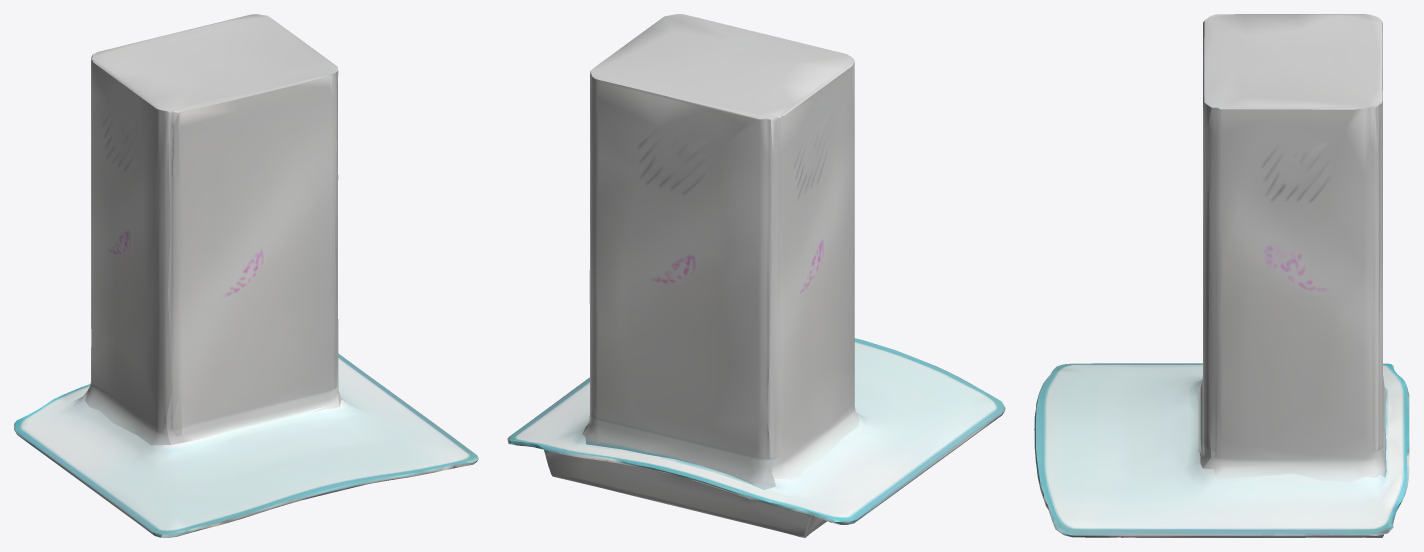
File: Hotte3_3D_textured.glb
The picture shows the model from 3 angles, left to right: view 1: azimuth 30°, elevation 25°; view 2: azimuth 150°, elevation 25°; view 3: azimuth 270°, elevation 25°; orthographic projection. The views are drawn at different scales.
Parts seen in each view (by area): view 1: temp_mesh.ply; view 2: temp_mesh.ply; view 3: temp_mesh.ply.
Boxes of the visible parts, x1,y1,x2,y2 form: temp_mesh.ply: (14,14,478,537); temp_mesh.ply: (507,14,1005,537); temp_mesh.ply: (1034,14,1409,537).
Bounding box in the file's own units: 1.75 × 1.97 × 1.61.
1 material, 1 textured.
